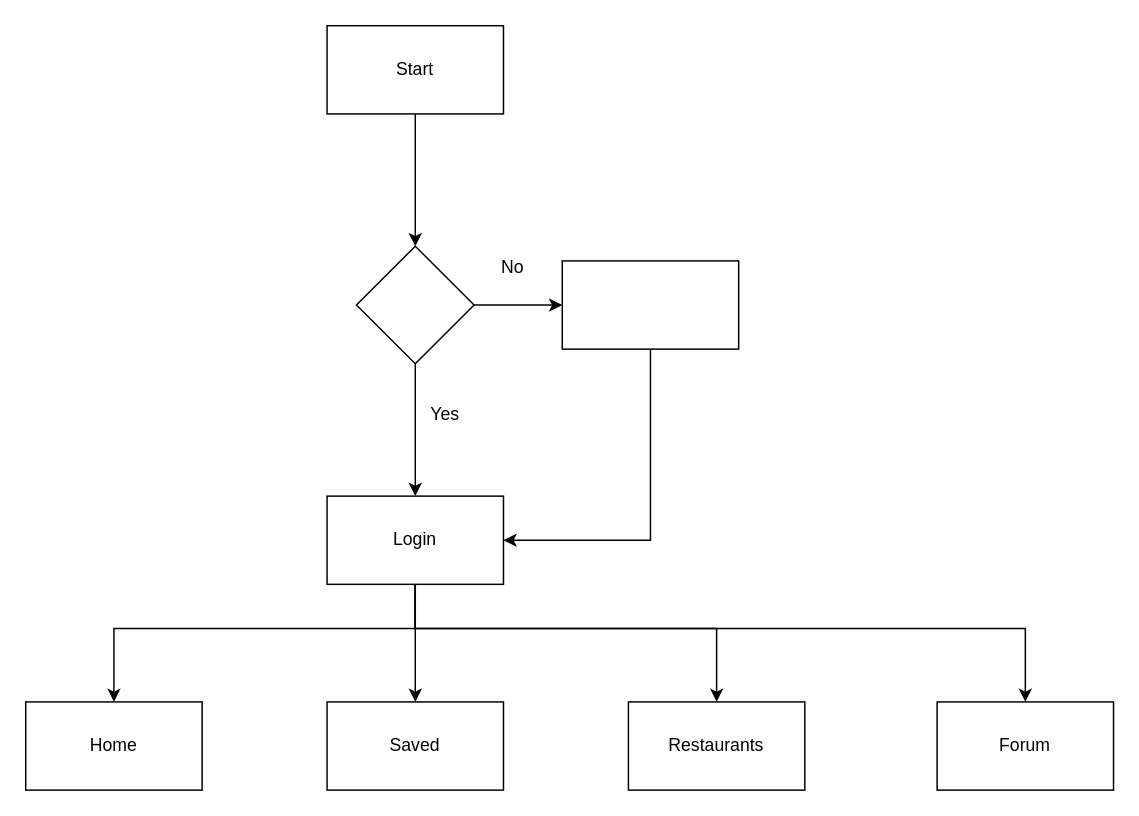
The diagram is 1139 pixels wide and 816 high, and some of its shapes have lost their labels. The shapes that lost their labels are listed below. From the top down, each one's centre as x and y in pixels, then its label:
point (414, 304): Have an account?
point (650, 304): Register
